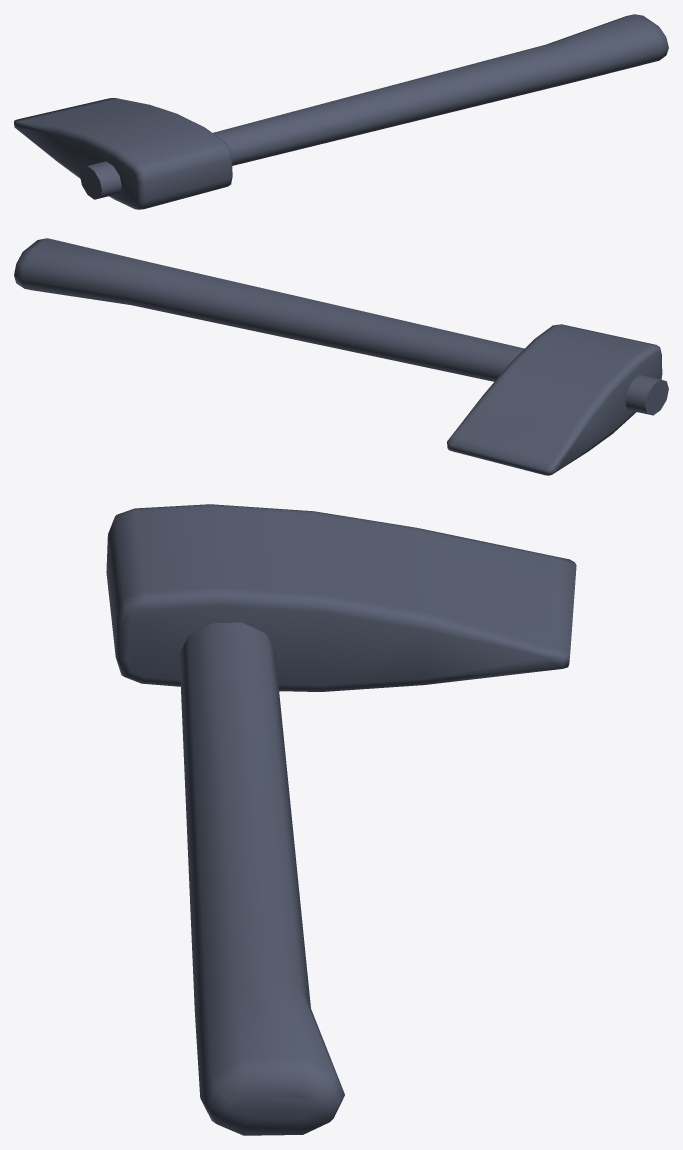
The model's file is Axe.FBX.
3 views of the same model, one above another, from view 1: azimuth 30°, elevation 25°; view 2: azimuth 150°, elevation 25°; view 3: azimuth 270°, elevation 25° (orthographic). The views are drawn at different scales.
Visible parts, largest first — view 1: Axe; view 2: Axe; view 3: Axe.
Part boxes in pixels (x1,y1,x2,y2): Axe: [14, 14, 668, 209]; Axe: [14, 238, 668, 475]; Axe: [106, 504, 576, 1135].
Size of the model in its own units: 109 by 9.3 by 38.33.
